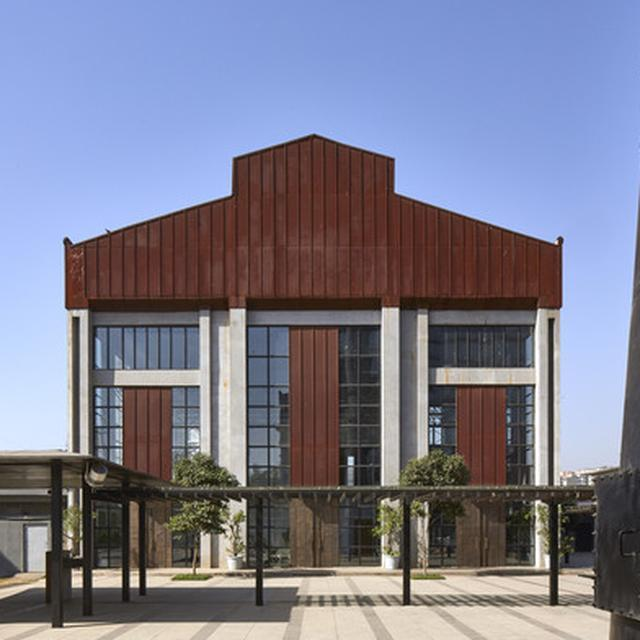building: (61, 131, 562, 574)
